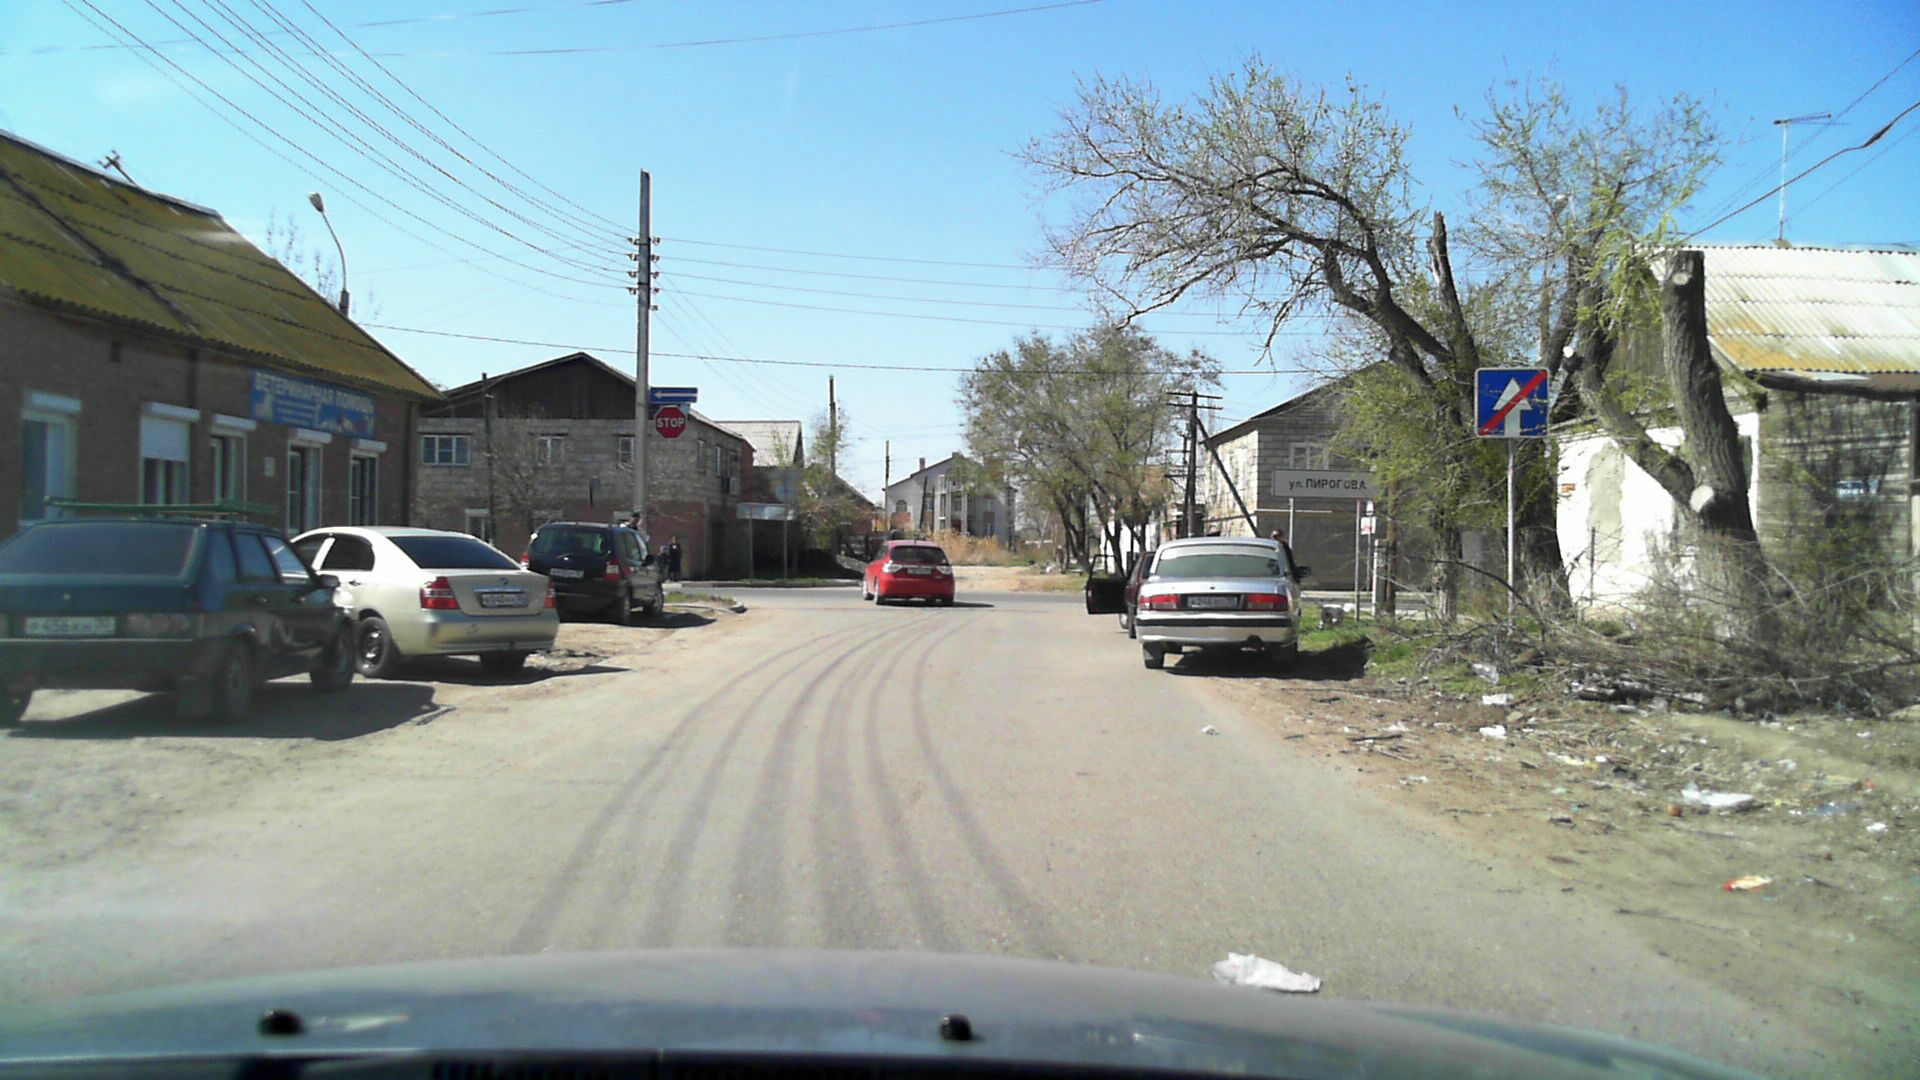One-Way Traffic: (650, 386, 698, 402)
